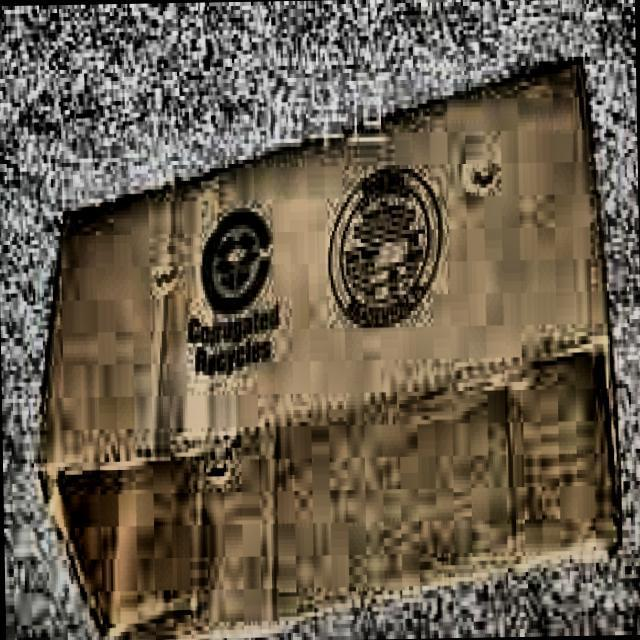cardboard: (30, 60, 625, 640)
